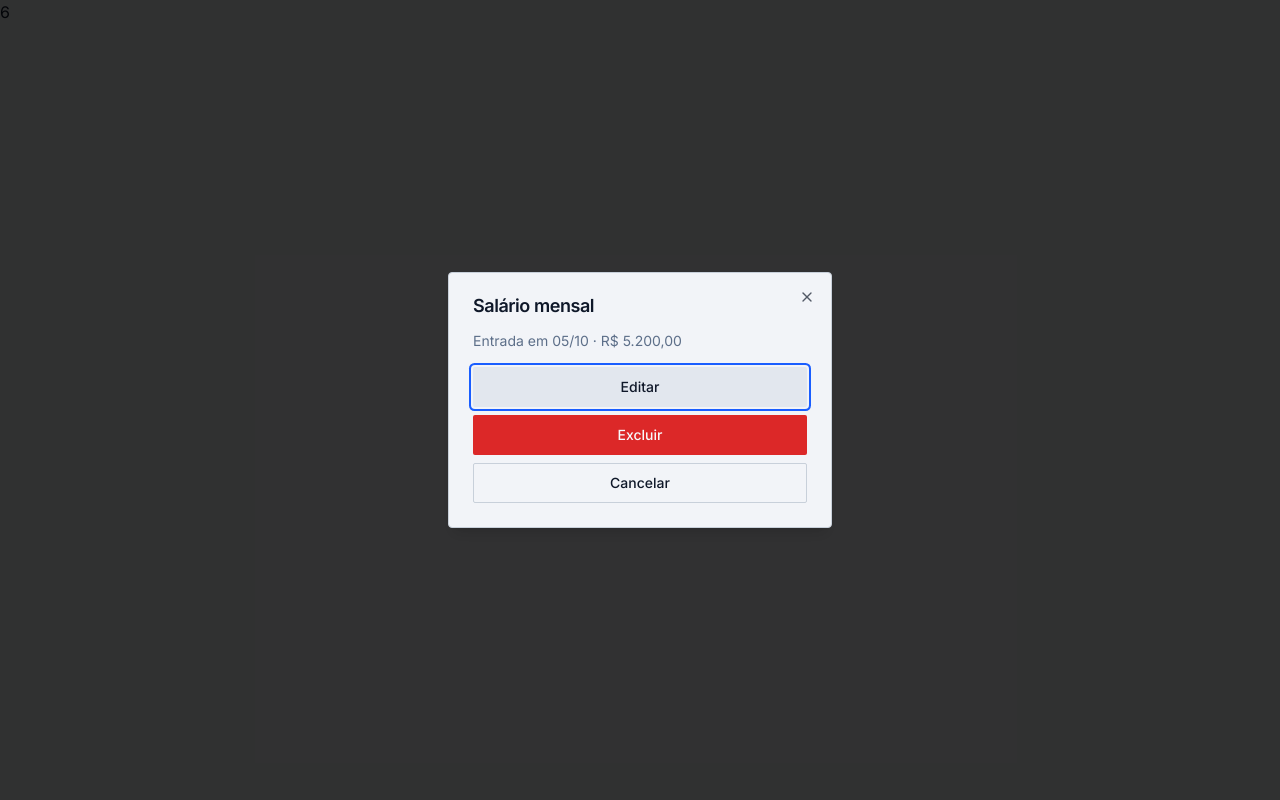
Scenario: AcoesLancamentoDialog — erro de vinculo com caixinha › mostra o erro 409 sem fechar o dialogo
Click the button "Editar" at (640, 387), box x1=473 y1=367 x2=807 y2=407
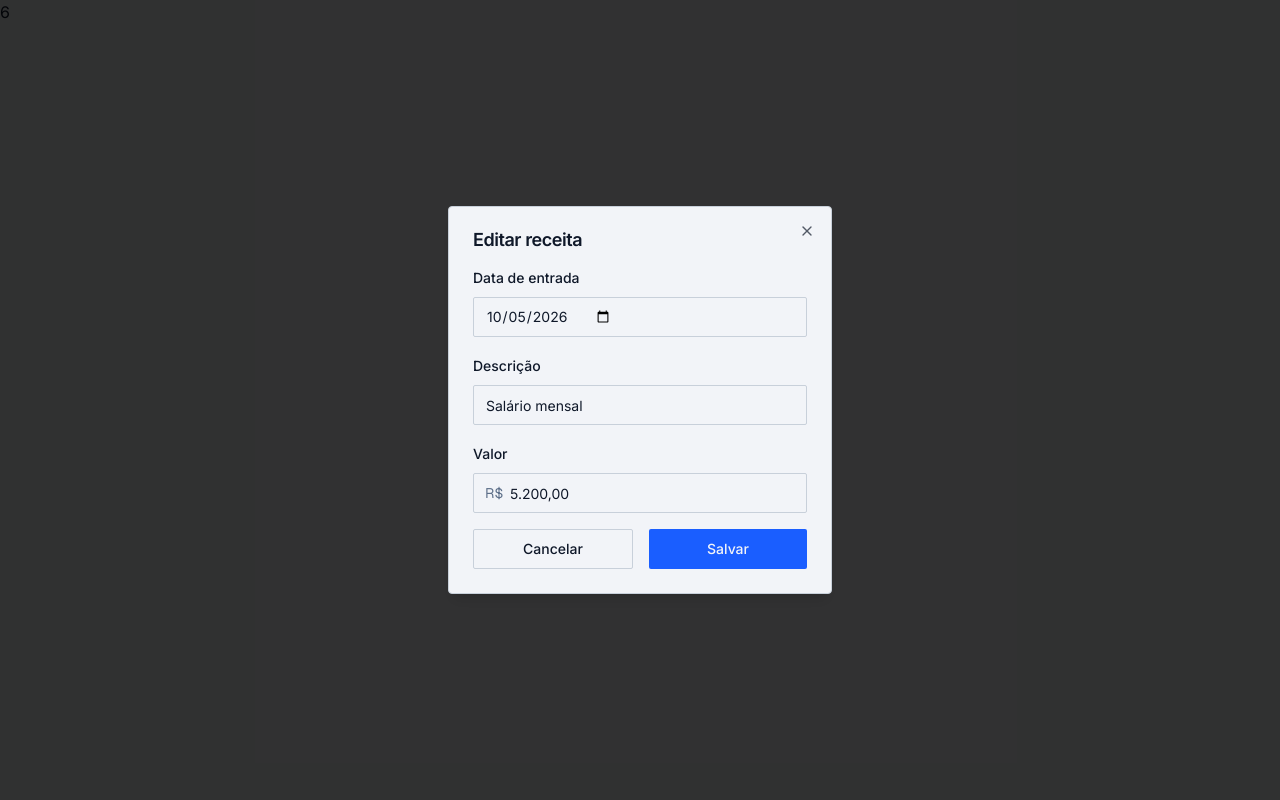
Click the button "Salvar" at (728, 549), box x1=649 y1=529 x2=807 y2=569
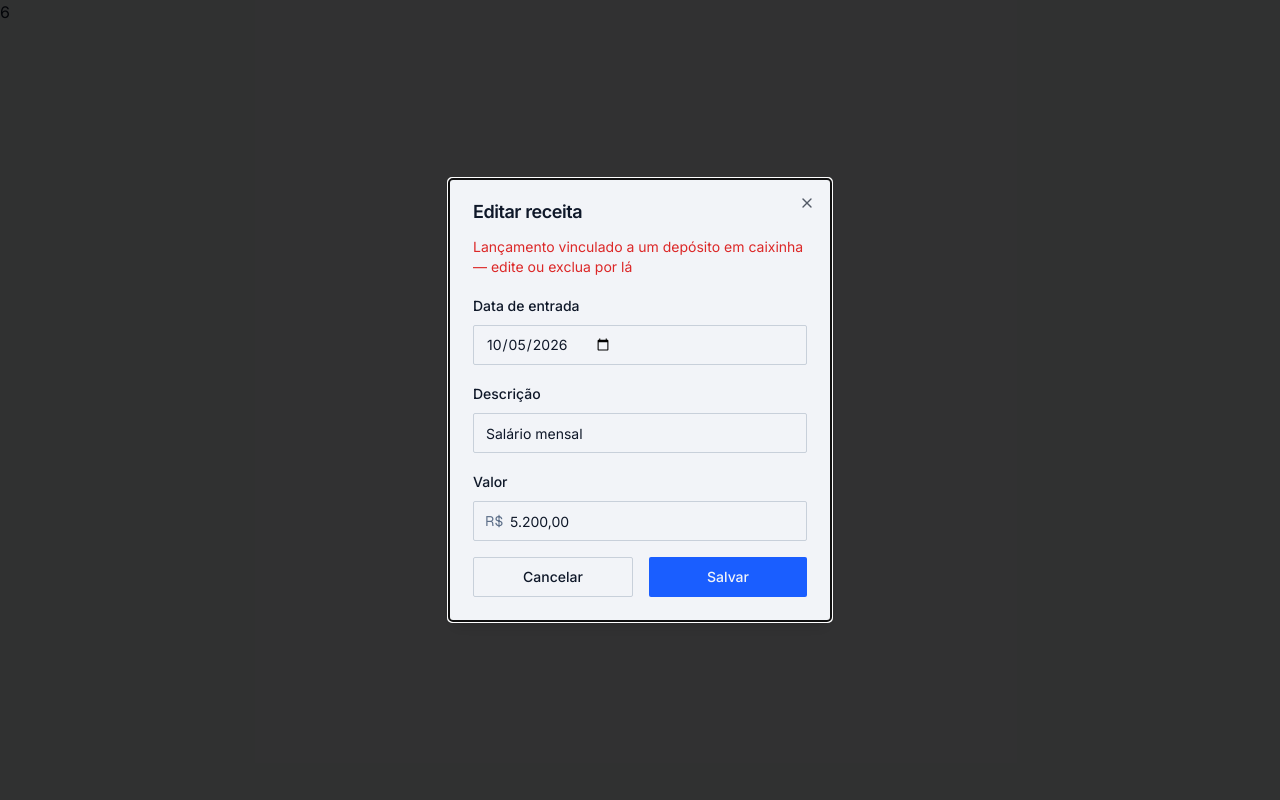
Now the text "Lançamento vinculado a um depósito em caixinha — edite ou exclua por lá" is shown, box x1=473 y1=237 x2=807 y2=277
